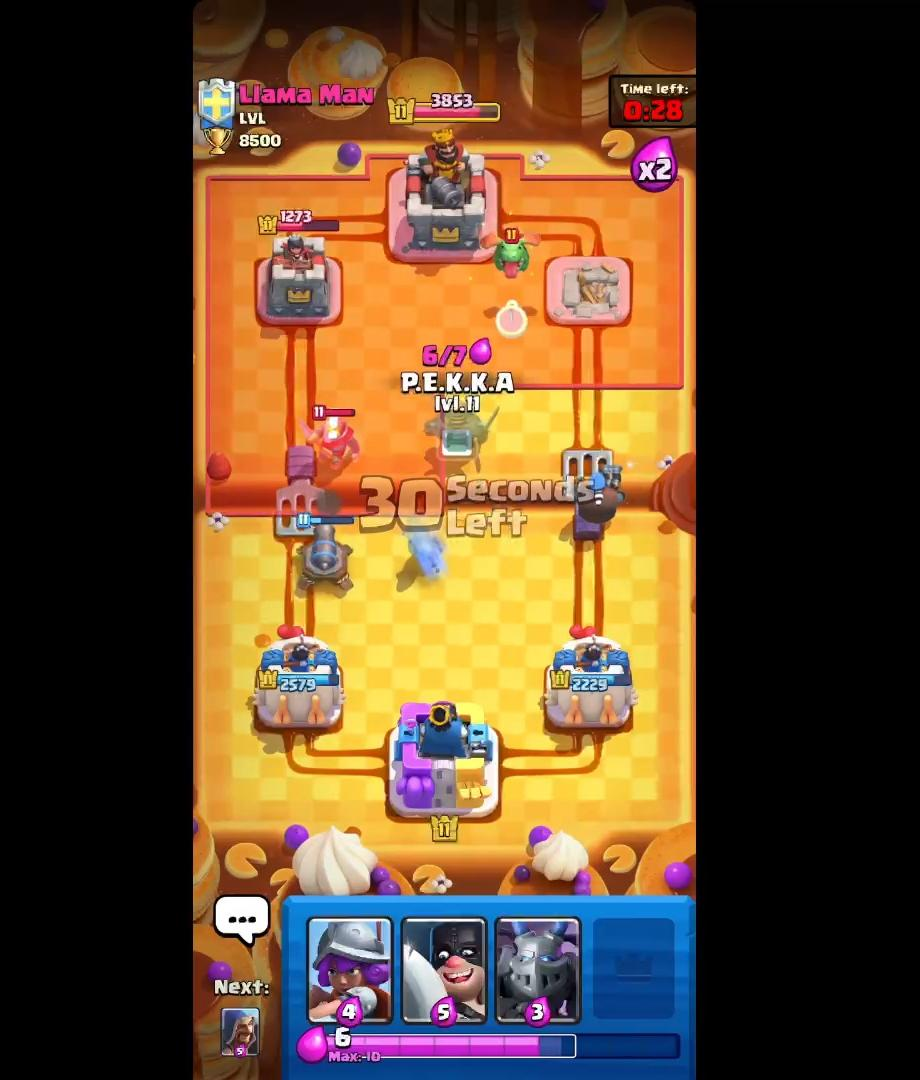Baby Dragon: (473, 216, 548, 282)
